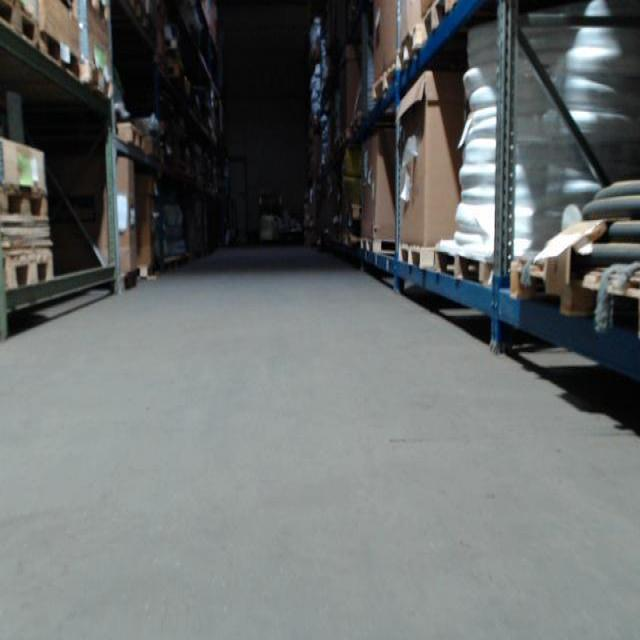pallet: (510, 257, 640, 340), (397, 246, 495, 285), (4, 248, 56, 293), (39, 31, 81, 82), (0, 0, 40, 49), (421, 0, 456, 43), (0, 187, 48, 218), (83, 59, 113, 100), (398, 23, 421, 75), (372, 58, 399, 102), (114, 119, 146, 153), (360, 238, 395, 255)
